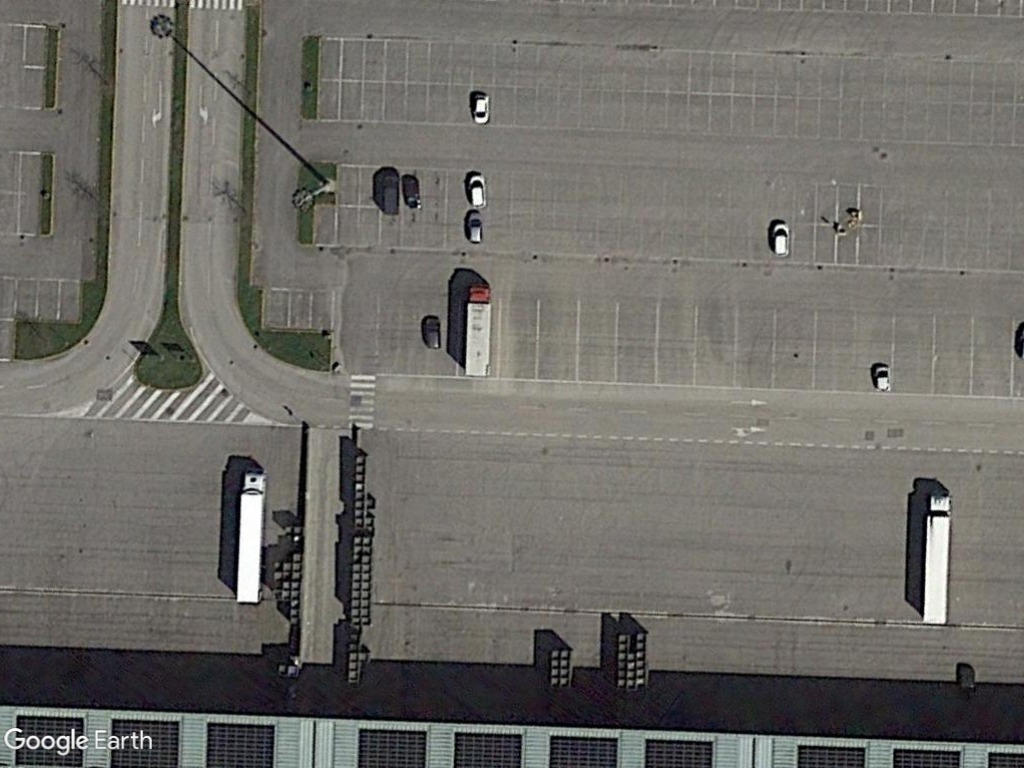car: (463, 169, 491, 210), (767, 217, 793, 260), (464, 205, 488, 250), (868, 358, 896, 396), (419, 312, 444, 354), (467, 89, 494, 126)
longvehicle: (918, 488, 955, 630), (234, 465, 267, 610)
truck: (460, 278, 498, 380)
